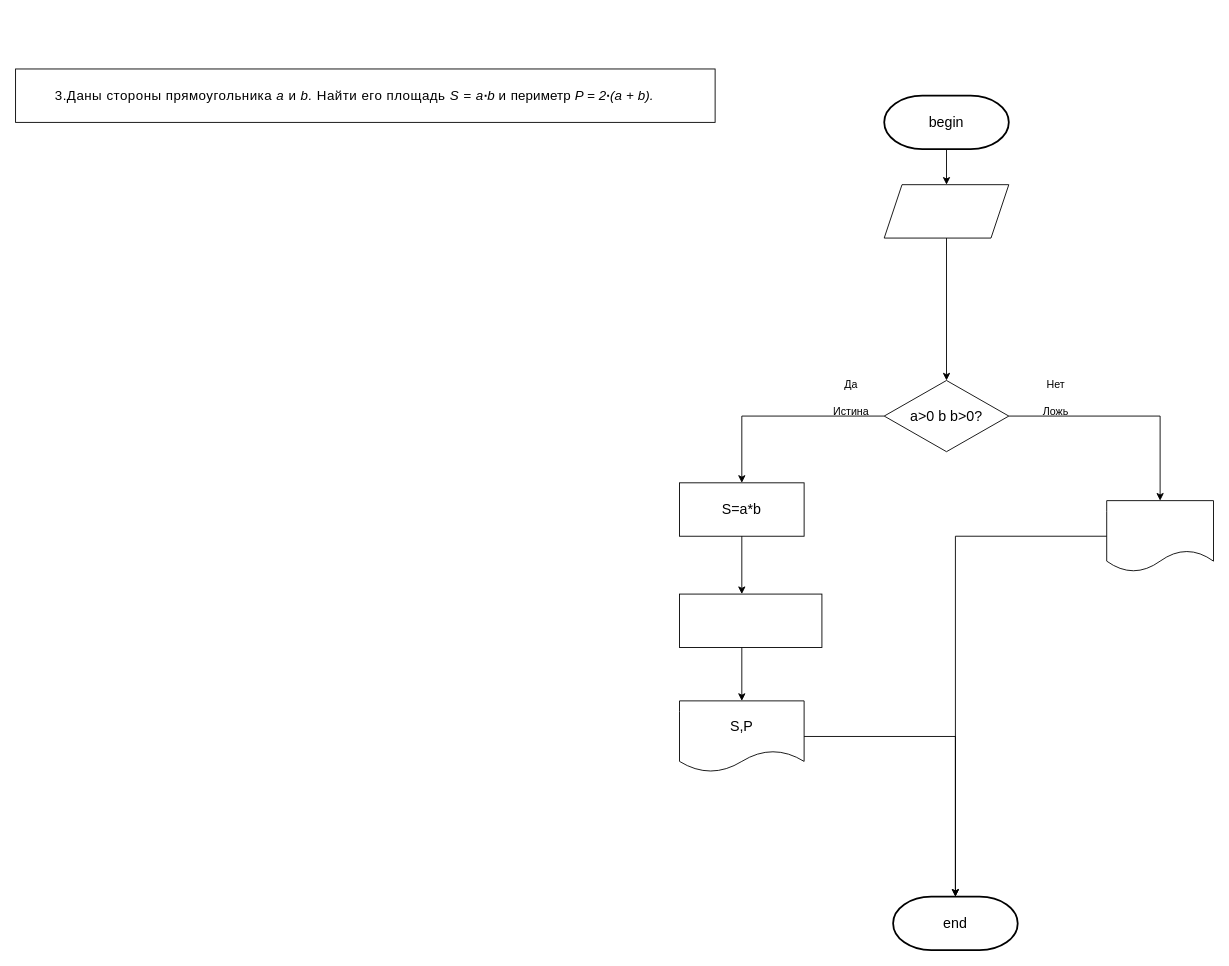
This 1229x966 diagram has some shape labels left out. Here are the shapes that lost their labels. From the top down, the box of each, then its label:
(883, 184, 1009, 238): A,B
(1106, 500, 1214, 572): Ошибка
(679, 593, 822, 647): P=2*(a+b)
